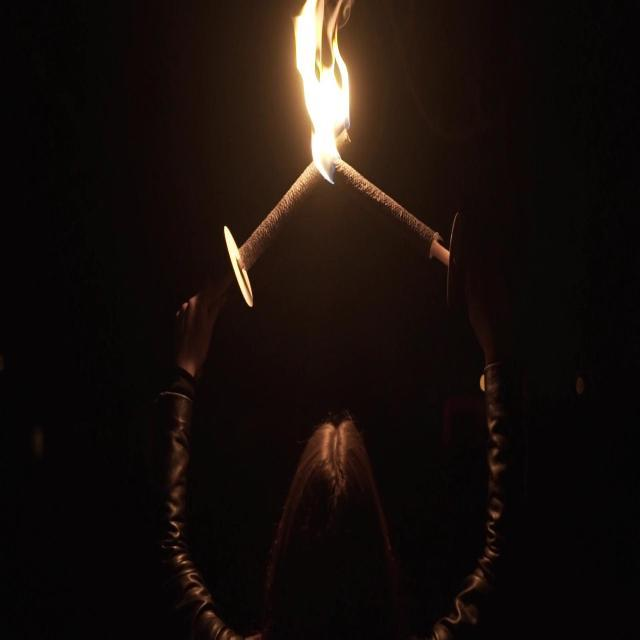Fire: (286, 0, 355, 169)
